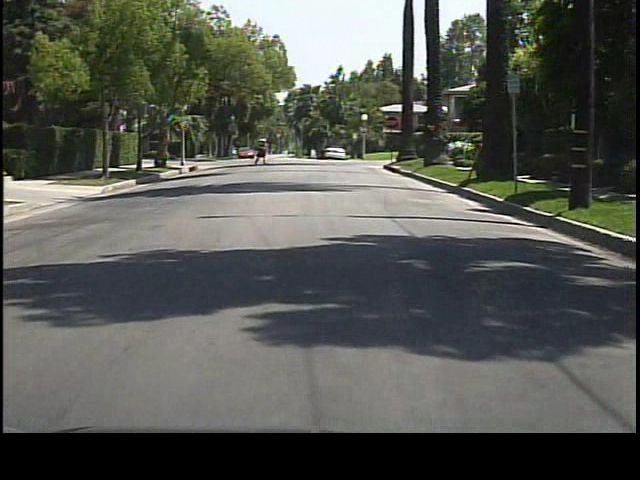person: (255, 135, 269, 167)
